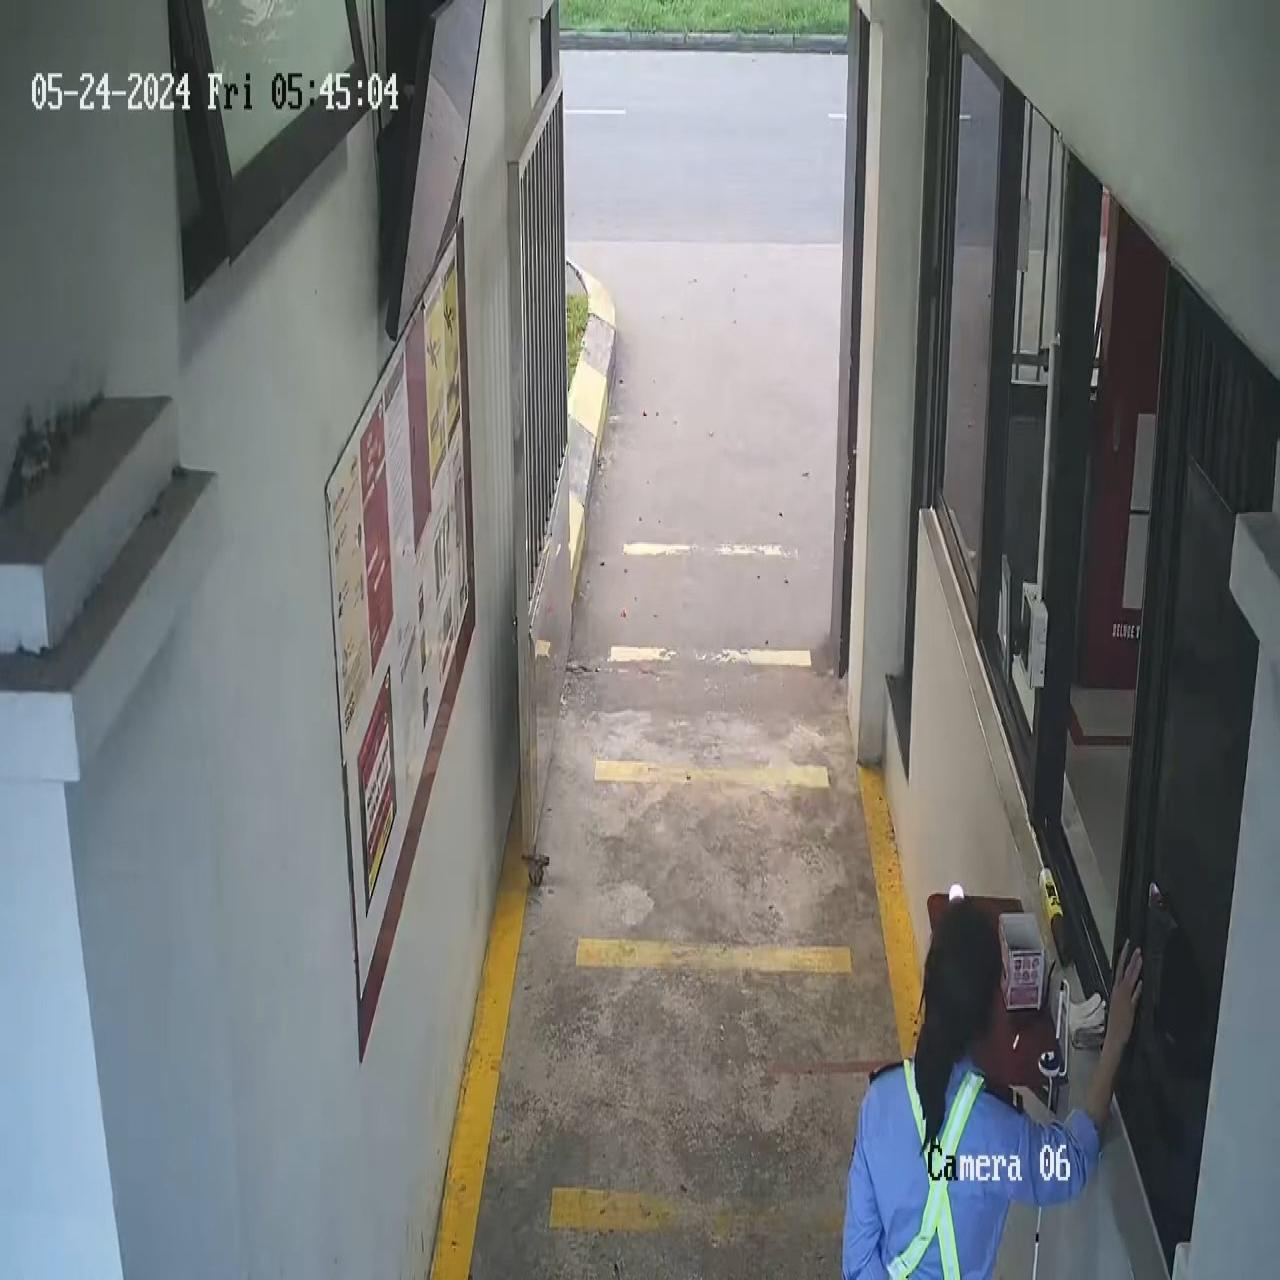breathalyzer: (1035, 859, 1080, 975)
guard: (839, 887, 1144, 1276)
